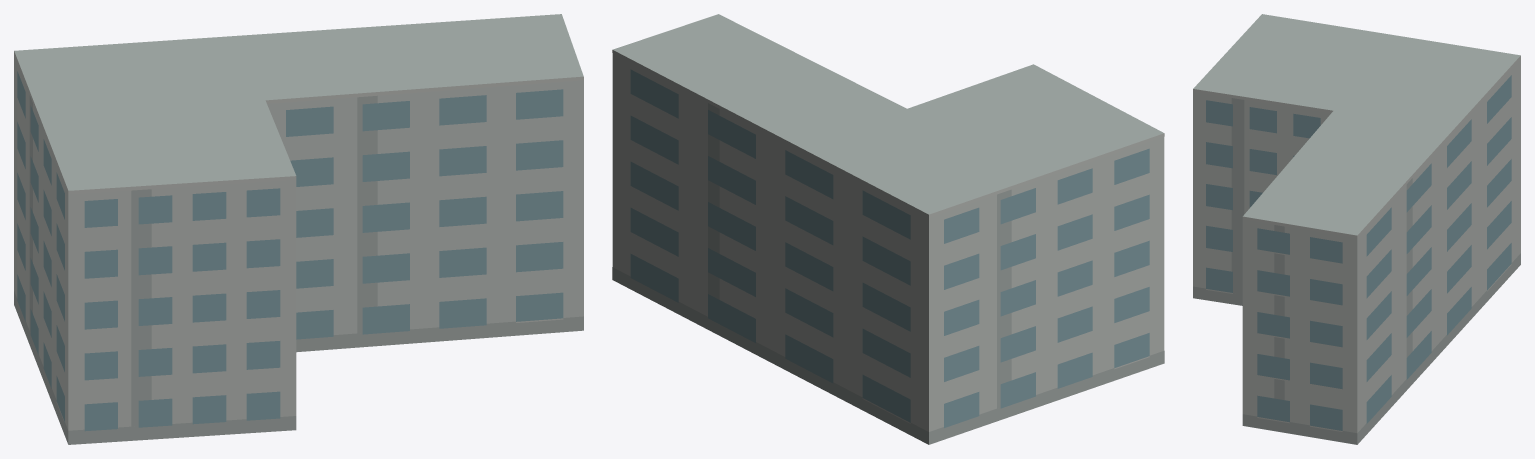
Rendered from survey-upis-32938918.glb.
3 views of the same model, side by side, from view 1: azimuth 30°, elevation 25°; view 2: azimuth 150°, elevation 25°; view 3: azimuth 270°, elevation 25° (orthographic). The views are drawn at different scales.
Parts seen in each view (by area): view 1: survey-upis-32938918.tmp; view 2: survey-upis-32938918.tmp; view 3: survey-upis-32938918.tmp.
Boxes of the visible parts, x1,y1,x2,y2 form: survey-upis-32938918.tmp: (14, 14, 583, 444); survey-upis-32938918.tmp: (612, 14, 1164, 444); survey-upis-32938918.tmp: (1193, 14, 1520, 444).
Bounding box in the file's own units: 37.24 × 16.4 × 23.29.
